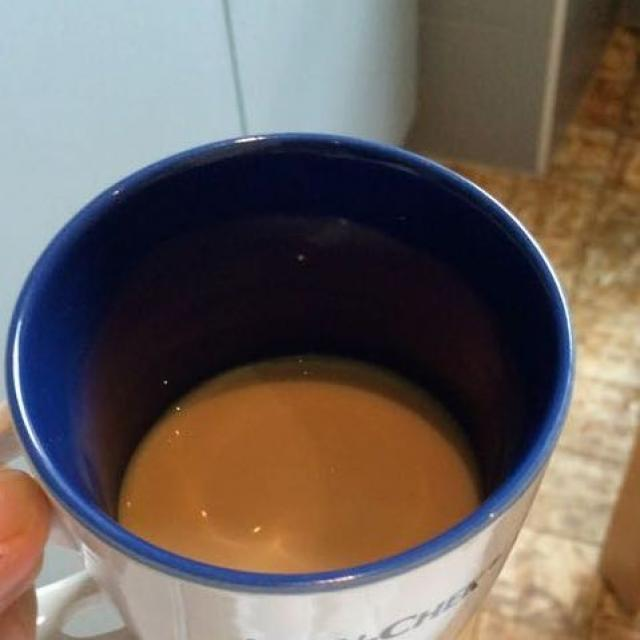coffee: (117, 355, 482, 570)
